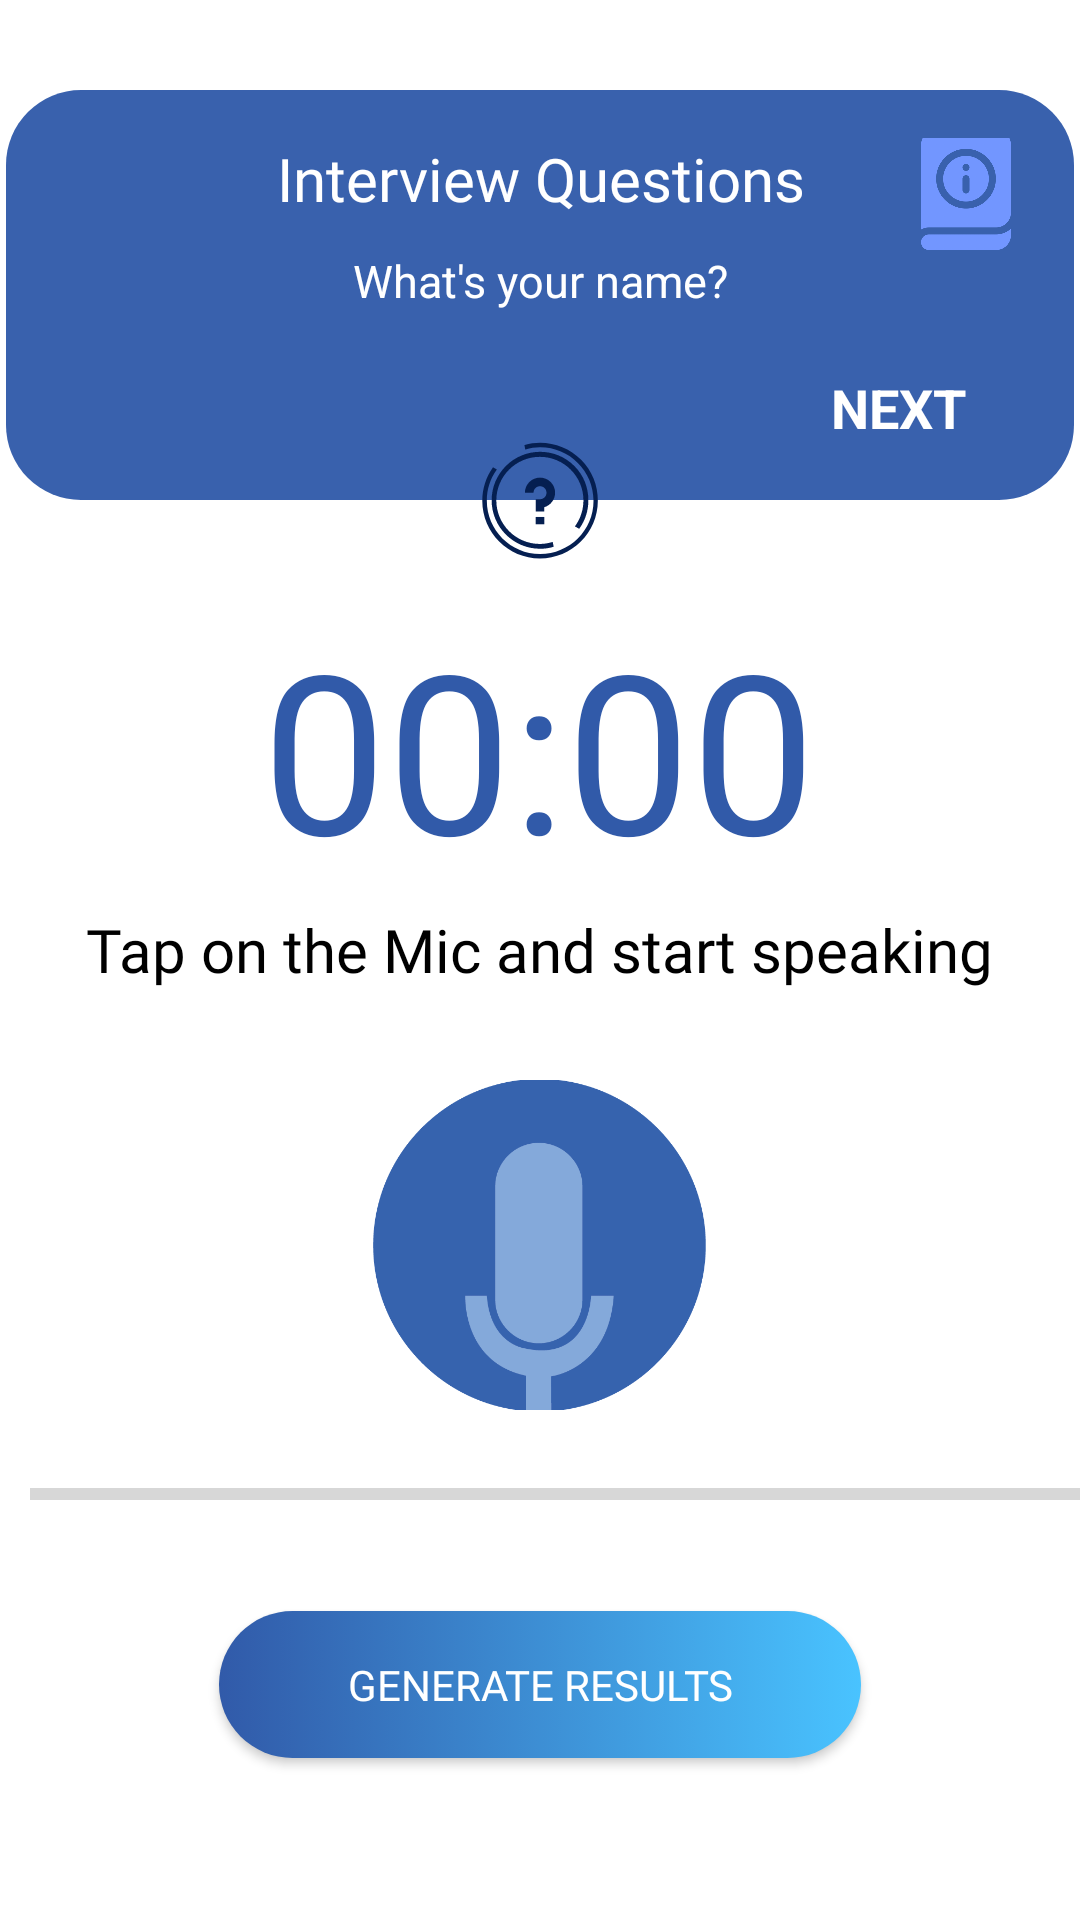

Icons on this 1080*1920 Android screen, each with the point to tap as (x=x, y=y):
book: (x=966, y=194)
microphone: (x=539, y=1245)
question: (x=540, y=516)
